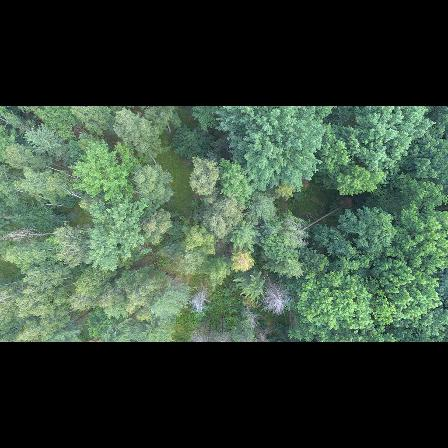Dead: (259, 266, 291, 319), (0, 224, 58, 244), (188, 313, 228, 342), (186, 279, 214, 313)
